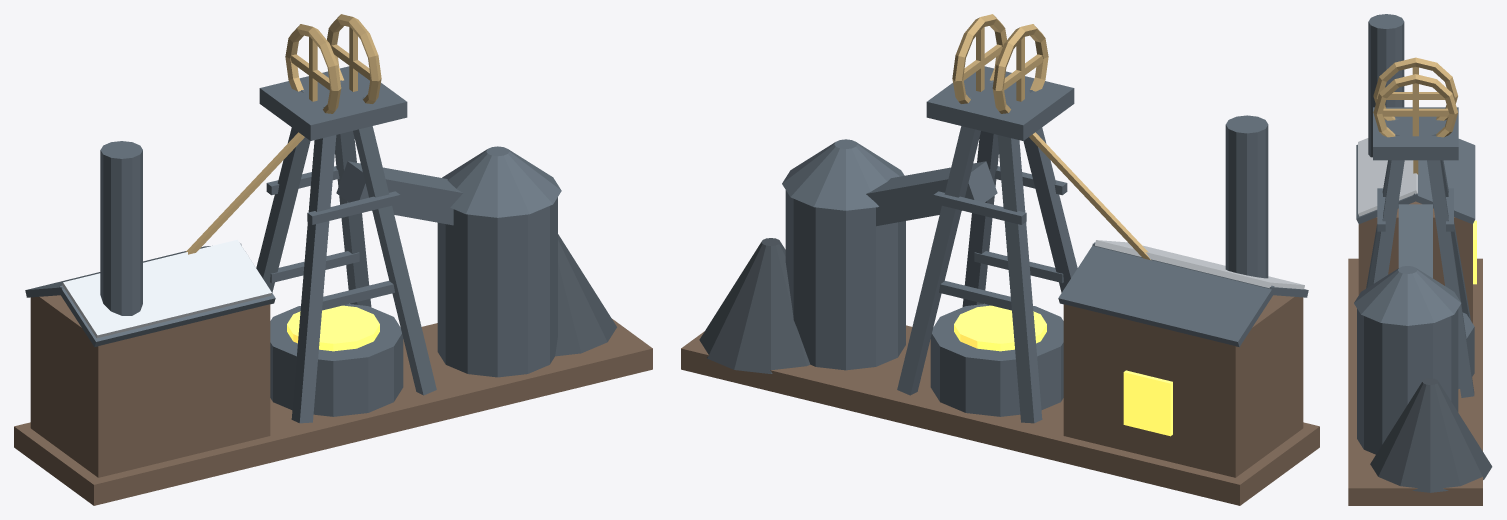
The model's file is coal_mine.glb.
The picture shows the model from 3 angles, left to right: view 1: azimuth 30°, elevation 25°; view 2: azimuth 150°, elevation 25°; view 3: azimuth 270°, elevation 25°; orthographic projection. The views are drawn at different scales.
Parts seen in each view (by area): view 1: coal_mine_Building; view 2: coal_mine_Building; view 3: coal_mine_Building.
Part boxes in pixels (x1,y1,x2,y2): coal_mine_Building: (14,14,652,505); coal_mine_Building: (681,14,1319,505); coal_mine_Building: (1348,14,1492,505).
Bounding box in the file's own units: 6.72 × 4.4 × 1.76.
